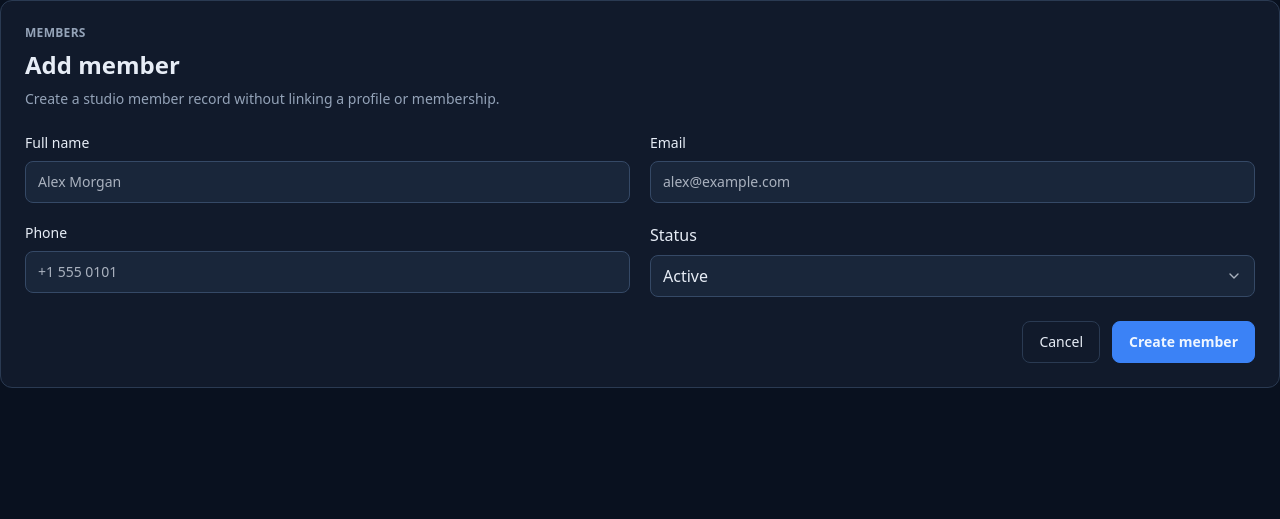
Test: CreateMemberForm › renders validation errors returned by the action
Click the button "Create member".
click(1184, 342)  # box [1112,321,1255,363]
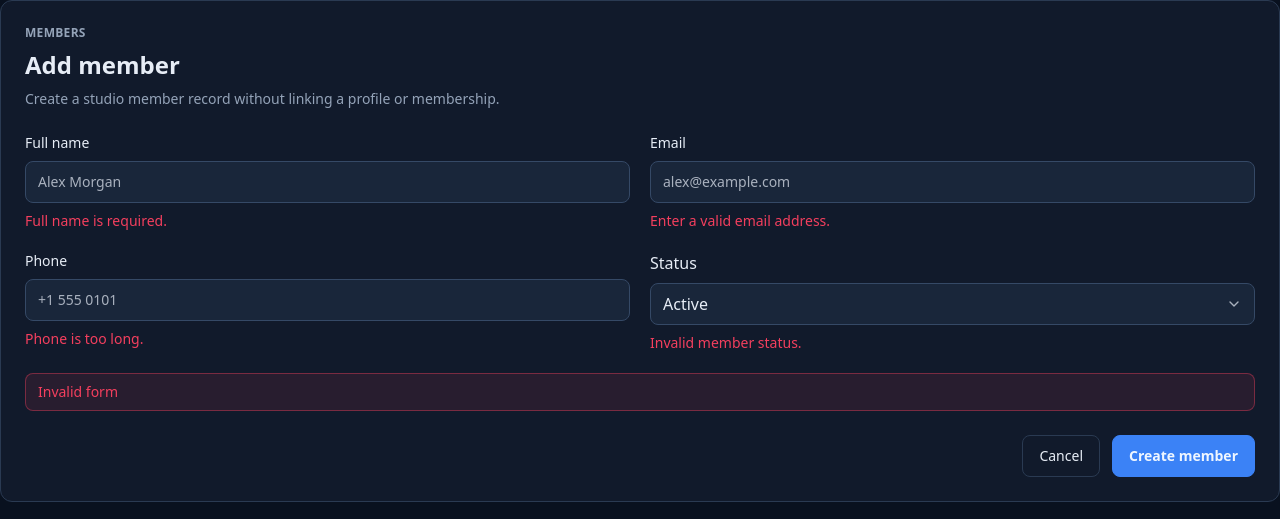
Now the text "Full name is required." is shown, box [25,211,167,230]
Now the text "Enter a valid email address." is shown, box [650,211,830,230]
Now the text "Phone is too long." is shown, box [25,329,144,348]
